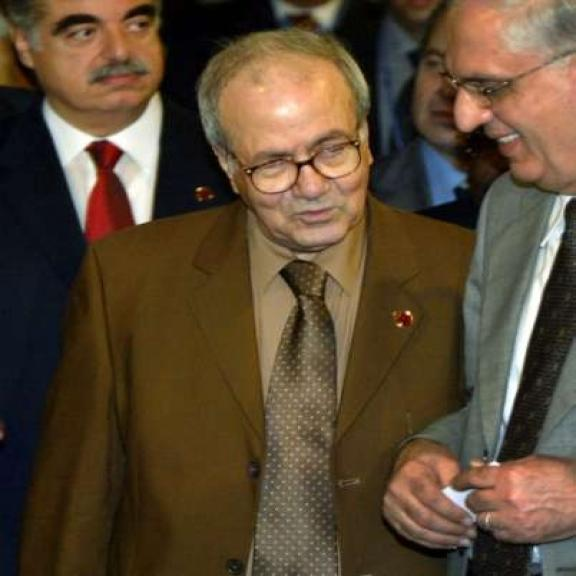face: (210, 65, 374, 249), (441, 8, 576, 195), (11, 0, 162, 115)
